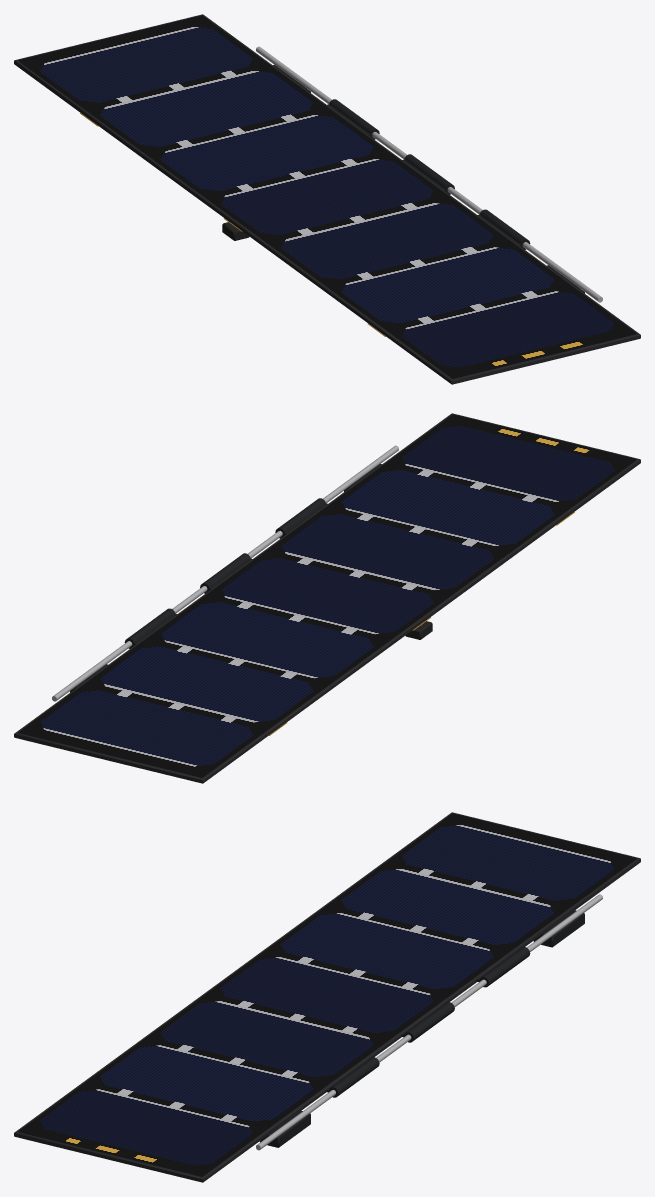
Rendered from mod_solar_wing_3u.glb.
3 views of the same model, one above another, from view 1: azimuth 30°, elevation 25°; view 2: azimuth 150°, elevation 25°; view 3: azimuth 330°, elevation 25° (orthographic).
Visible parts, largest first — view 1: solar_wing_panel, mod_solar_wing_3u; view 2: solar_wing_panel, mod_solar_wing_3u; view 3: solar_wing_panel, mod_solar_wing_3u.
Part boxes in pixels (<box>): solar_wing_panel: <box>14,14,640,384</box>; mod_solar_wing_3u: <box>222,46,602,302</box>; solar_wing_panel: <box>14,413,640,783</box>; mod_solar_wing_3u: <box>52,445,432,701</box>; solar_wing_panel: <box>14,812,640,1182</box>; mod_solar_wing_3u: <box>256,894,602,1150</box>.
Size of the model in its own units: 0.871 by 0.076 by 3.2.
Materials: 7 (1 with a texture image).
